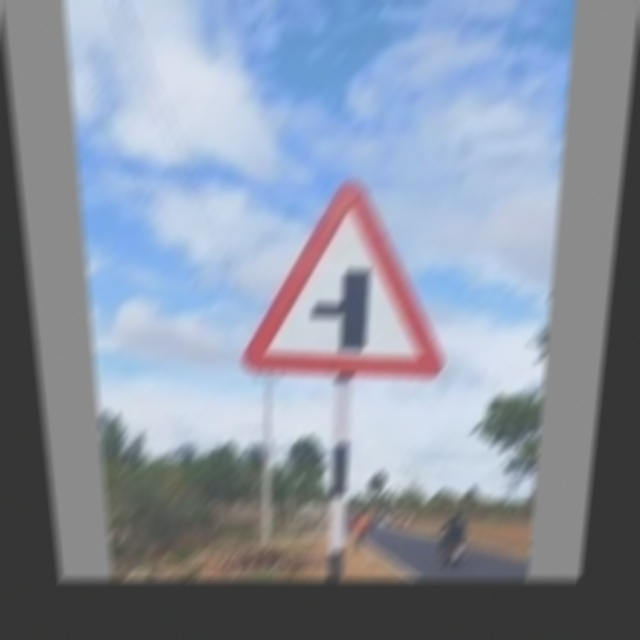Side_Road_Left: (237, 189, 458, 382)
